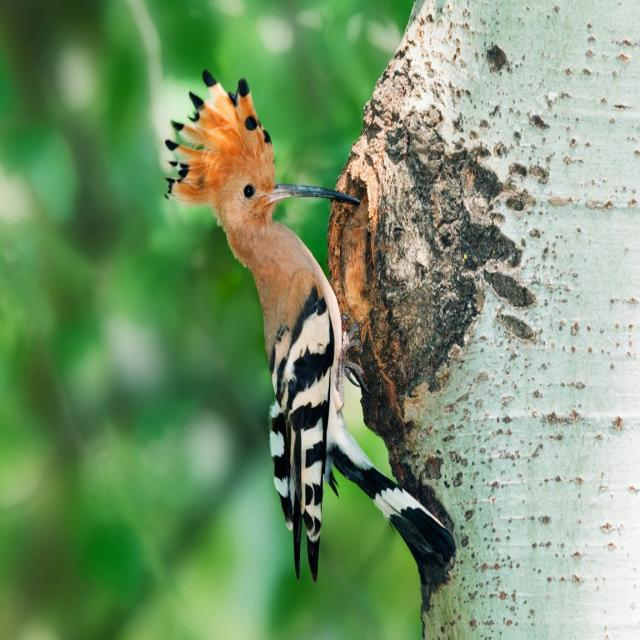Woodpecker: (160, 49, 458, 600)
